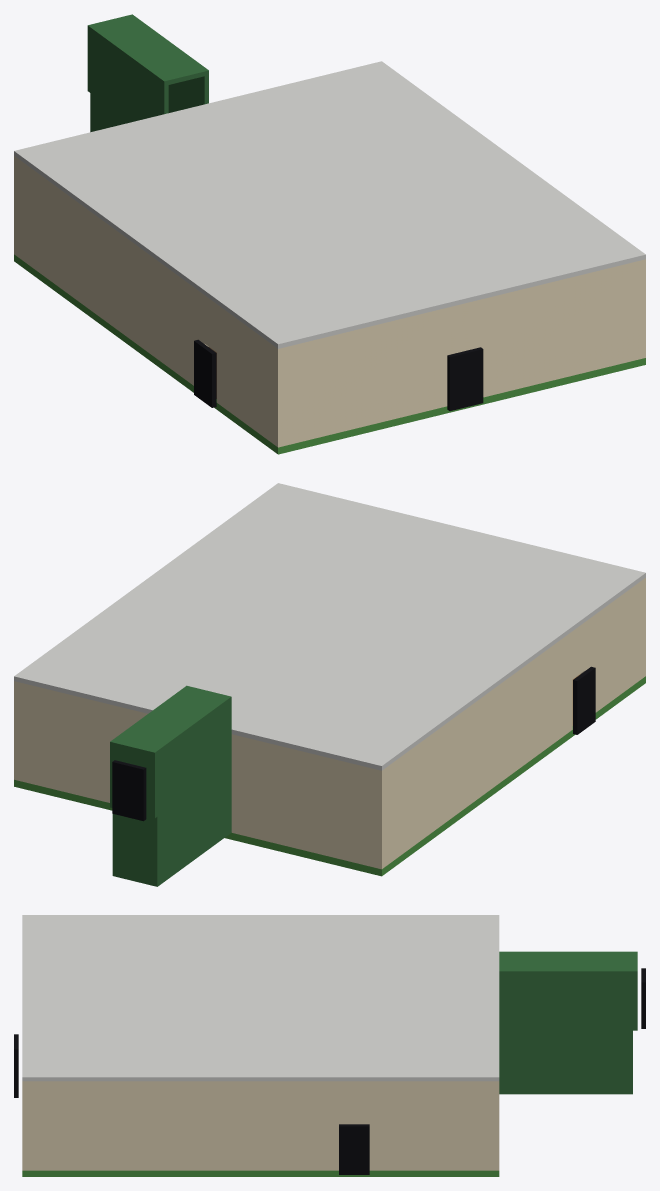
The model's file is rdwe_dining.glb.
3 renders of one model, top to bottom at view 1: azimuth 30°, elevation 25°; view 2: azimuth 150°, elevation 25°; view 3: azimuth 270°, elevation 25°, orthographic. The views are drawn at different scales.
Parts seen in each view (by area): view 1: Dining_Ceiling, Dining_Wall_W_1, Dining_Wall_S_1, Dining_Wall_S_3, Dining_Wall_W_3, Well_W_1, Dining_Floor, Well_Ceiling, Beyond_house, Beyond_loop, Well_E_1, Dining_Wall_S_2 (+1 smaller); view 2: Dining_Ceiling, Dining_Wall_W_1, Dining_Wall_N_1, Dining_Wall_N_3, Well_W_1, Dining_Wall_W_3, Well_Ceiling, Dining_Floor, Well_Under_Landing, Beyond_stairs, Beyond_loop, Well_N_1 (+1 smaller); view 3: Dining_Ceiling, Dining_Wall_E_3, Well_E_1, Dining_Wall_E_1, Well_Ceiling, Dining_Floor, Beyond_pantry, Dining_Wall_E_2, Dining_Wall_N_3, Dining_Wall_S_3.
Part boxes in pixels (x1=…): Dining_Ceiling: x1=14, y1=61, x2=645, y2=348; Dining_Wall_W_1: x1=16, y1=158, x2=208, y2=385; Dining_Wall_S_1: x1=275, y1=307, x2=450, y2=447; Dining_Wall_S_3: x1=473, y1=259, x2=645, y2=397; Dining_Wall_W_3: x1=217, y1=304, x2=275, y2=445; Well_W_1: x1=90, y1=32, x2=168, y2=132; Dining_Floor: x1=14, y1=254, x2=645, y2=454; Well_Ceiling: x1=87, y1=14, x2=208, y2=85; Beyond_house: x1=447, y1=347, x2=483, y2=410; Beyond_loop: x1=194, y1=339, x2=216, y2=407; Well_E_1: x1=168, y1=75, x2=208, y2=112; Dining_Wall_S_2: x1=450, y1=301, x2=473, y2=354; Dining_Ceiling: x1=14, y1=483, x2=645, y2=770; Dining_Wall_W_1: x1=384, y1=631, x2=572, y2=867; Dining_Wall_N_1: x1=231, y1=734, x2=384, y2=869; Dining_Wall_N_3: x1=14, y1=681, x2=147, y2=802; Well_W_1: x1=153, y1=701, x2=231, y2=886; Dining_Wall_W_3: x1=581, y1=580, x2=643, y2=712; Well_Ceiling: x1=110, y1=685, x2=231, y2=757; Dining_Floor: x1=14, y1=676, x2=645, y2=876; Well_Under_Landing: x1=117, y1=815, x2=152, y2=885; Beyond_stairs: x1=112, y1=760, x2=146, y2=821; Beyond_loop: x1=573, y1=666, x2=595, y2=734; Well_N_1: x1=143, y1=754, x2=157, y2=818; Dining_Ceiling: x1=22, y1=915, x2=499, y2=1081; Dining_Wall_E_3: x1=27, y1=1081, x2=344, y2=1170; Well_E_1: x1=499, y1=975, x2=632, y2=1094; Dining_Wall_E_1: x1=364, y1=1081, x2=494, y2=1170; Well_Ceiling: x1=499, y1=951, x2=637, y2=975; Dining_Floor: x1=22, y1=1170, x2=499, y2=1176; Beyond_pantry: x1=339, y1=1124, x2=369, y2=1174; Dining_Wall_E_2: x1=344, y1=1081, x2=364, y2=1124; Dining_Wall_N_3: x1=494, y1=1081, x2=499, y2=1170; Dining_Wall_S_3: x1=22, y1=1081, x2=26, y2=1170.
Bounding box in the file's own units: 17.1 × 6.1 × 27.02.
